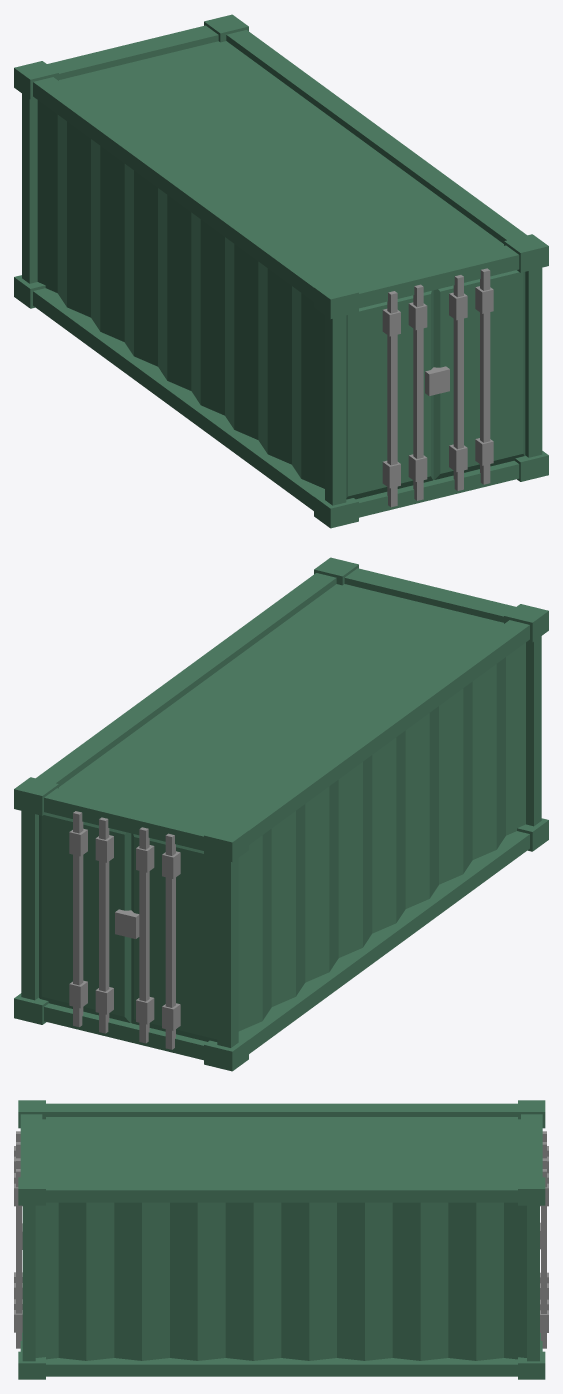
Rendered from Container_01.glb.
3 renders of one model, top to bottom at view 1: azimuth 30°, elevation 25°; view 2: azimuth 150°, elevation 25°; view 3: azimuth 270°, elevation 25°, orthographic. The views are drawn at different scales.
Visible parts, largest first — view 1: Container_1_mesh; view 2: Container_1_mesh; view 3: Container_1_mesh.
Part boxes in pixels (box(x1,y1,x2,y2)): Container_1_mesh: box(14, 14, 548, 528); Container_1_mesh: box(14, 557, 548, 1071); Container_1_mesh: box(14, 1100, 548, 1379).
Bounding box in the file's own units: 2.45 × 2.46 × 6.25.
1 material, 1 textured.
